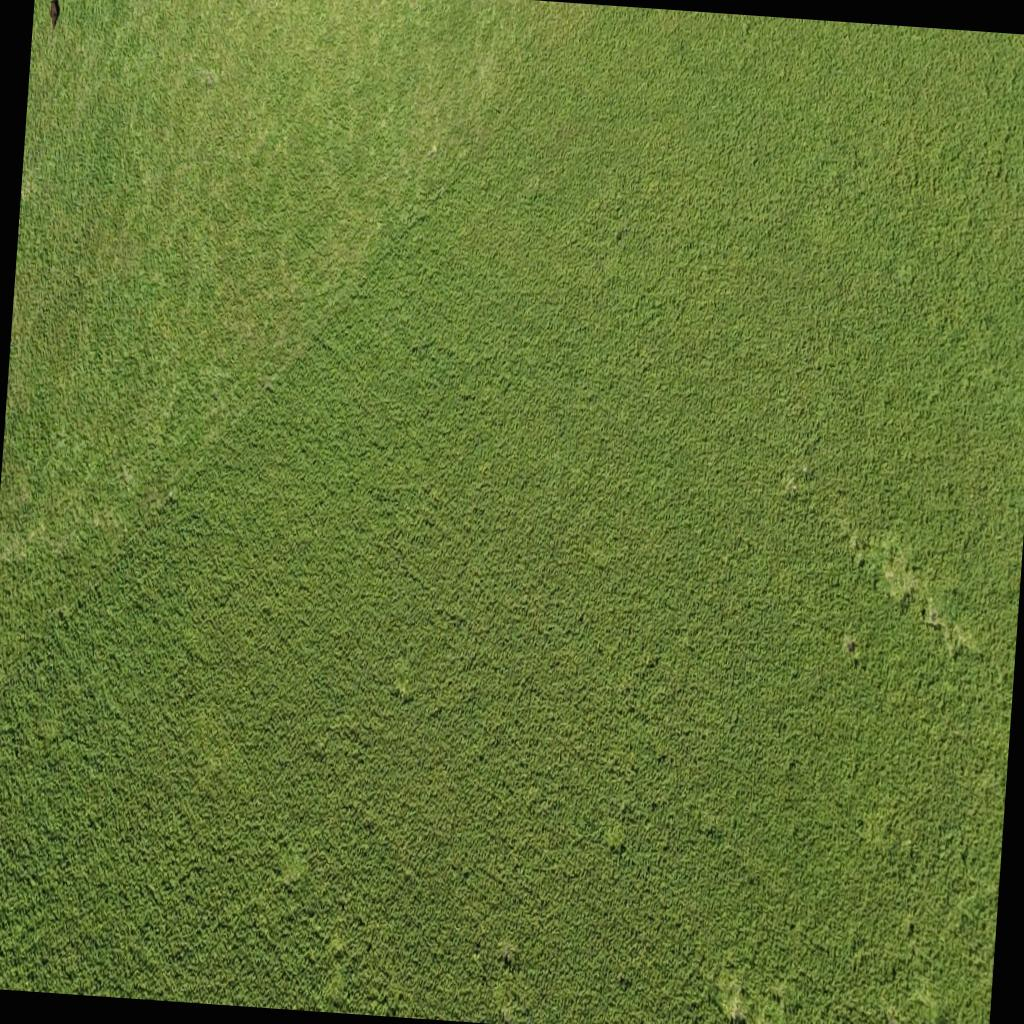cow: (43, 0, 63, 32)
